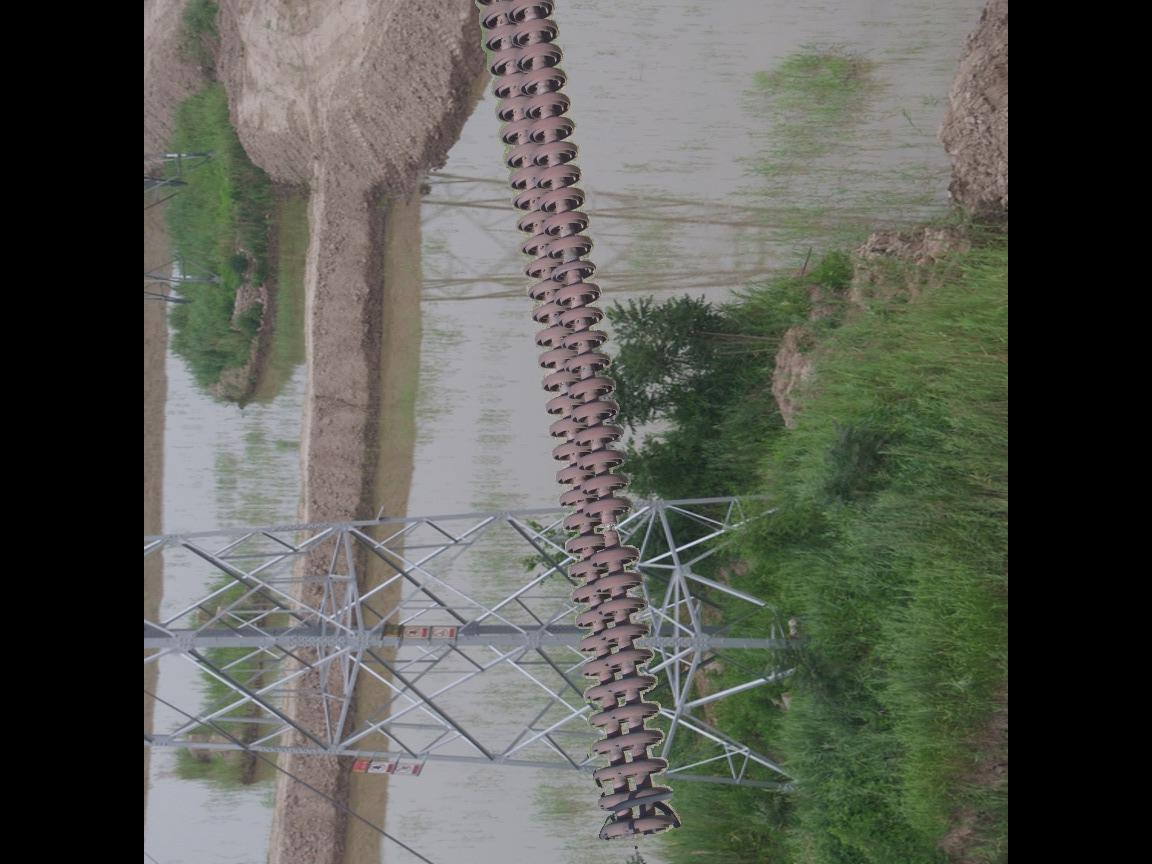insulator: (470, 1, 675, 847)
insulator_stringdrop: (580, 494, 644, 571)
